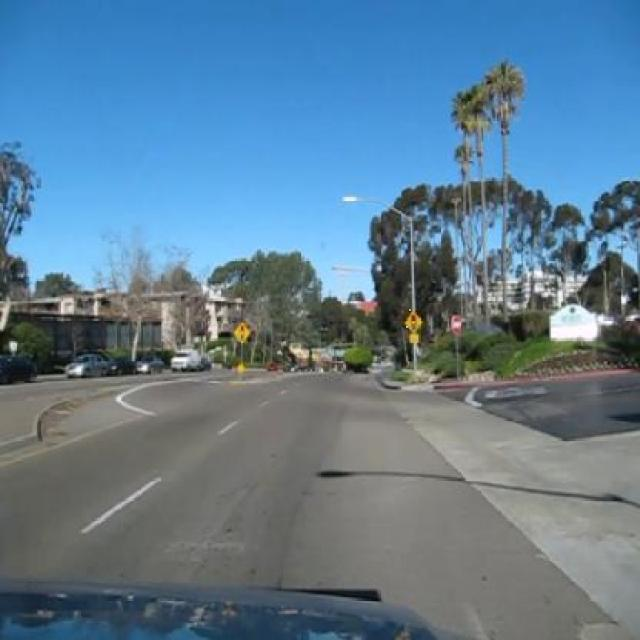signalAhead: (403, 309, 423, 335), (232, 320, 250, 344)
stop: (449, 314, 461, 333)
